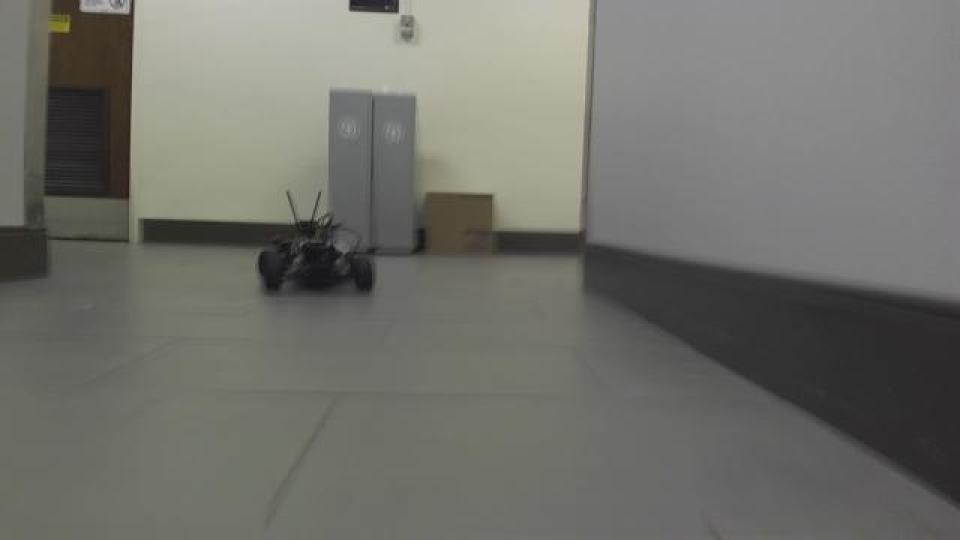car: (252, 186, 376, 297)
